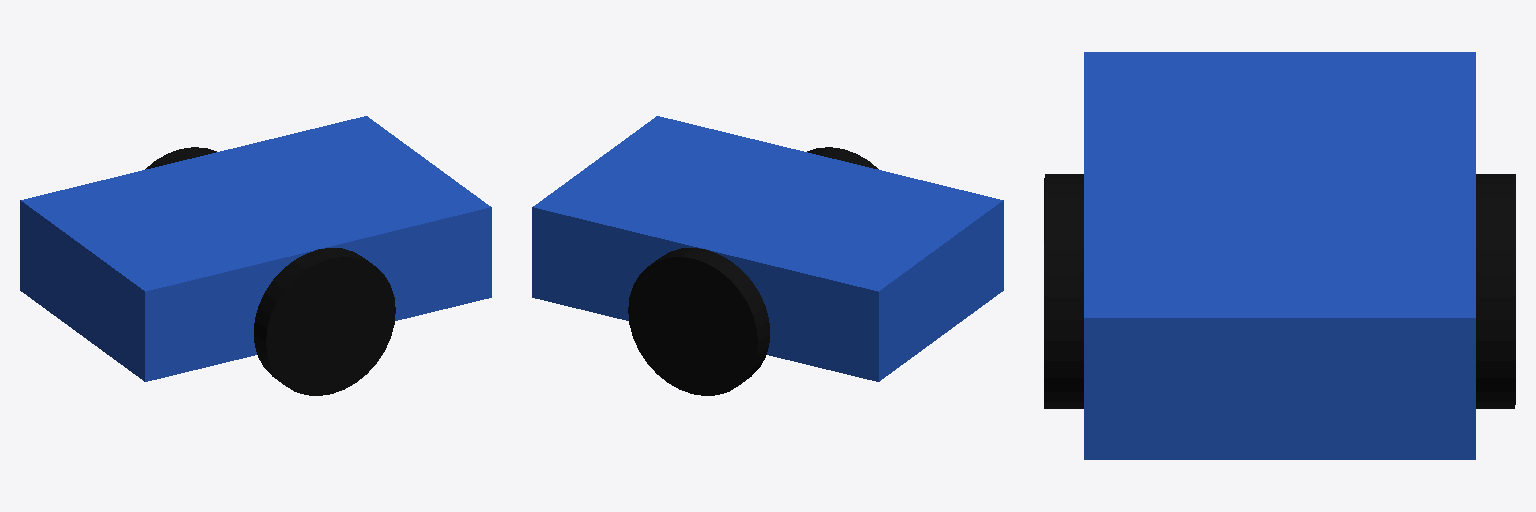
robot.urdf — battlebot_1:
<?xml version="1.0"?>
<robot name="battlebot_1">

  <link name="base_link">
    <visual>
      <origin xyz="0 0 0.05" rpy="0 0 0"/>
      <geometry>
        <box size="0.8 0.5 0.2"/>
      </geometry>
      <material name="blue">
        <color rgba="0.2 0.4 0.8 1"/>
      </material>
    </visual>
    <collision>
      <origin xyz="0 0 0.05" rpy="0 0 0"/>
      <geometry>
        <box size="0.8 0.5 0.2"/>
      </geometry>
    </collision>
    <inertial>
      <origin xyz="0 0 0.05" rpy="0 0 0"/>
      <mass value="10.0"/>
      <inertia ixx="0.1" ixy="0.0" ixz="0.0" iyy="0.1" iyz="0.0" izz="0.1"/>
    </inertial>
  </link>

  <link name="left_wheel_link">
    <visual>
      <origin rpy="1.5707 0 0"/>
      <geometry>
        <cylinder radius="0.15" length="0.05"/>
      </geometry>
      <material name="black">
        <color rgba="0.1 0.1 0.1 1"/>
      </material>
    </visual>
    <collision>
      <origin rpy="1.5707 0 0"/>
      <geometry>
        <cylinder radius="0.15" length="0.05"/>
      </geometry>
    </collision>
    <inertial>
      <mass value="1.0"/>
      <inertia ixx="0.01" ixy="0.0" ixz="0.0" iyy="0.01" iyz="0.0" izz="0.01"/>
    </inertial>
  </link>

  <link name="right_wheel_link">
    <visual>
      <origin rpy="1.5707 0 0"/>
      <geometry>
        <cylinder radius="0.15" length="0.05"/>
      </geometry>
      <material name="black"/>
    </visual>
    <collision>
      <origin rpy="1.5707 0 0"/>
      <geometry>
        <cylinder radius="0.15" length="0.05"/>
      </geometry>
    </collision>
    <inertial>
      <mass value="1.0"/>
      <inertia ixx="0.01" ixy="0.0" ixz="0.0" iyy="0.01" iyz="0.0" izz="0.01"/>
    </inertial>
  </link>

  <joint name="left_wheel_joint" type="continuous">
    <parent link="base_link"/>
    <child link="left_wheel_link"/>
    <origin xyz="0.0 0.275 0" rpy="0 0 0"/>
    <axis xyz="0 1 0"/>
  </joint>

  <joint name="right_wheel_joint" type="continuous">
    <parent link="base_link"/>
    <child link="right_wheel_link"/>
    <origin xyz="0.0 -0.275 0" rpy="0 0 0"/>
    <axis xyz="0 1 0"/>
  </joint>

  <gazebo>
    <plugin name="diff_drive" filename="libgazebo_ros_diff_drive.so">
      <ros>
        <namespace>/battlebot_1</namespace>
      </ros>
      <left_joint>left_wheel_joint</left_joint>
      <right_joint>right_wheel_joint</right_joint>
      <wheel_separation>0.55</wheel_separation>
      <wheel_diameter>0.3</wheel_diameter>
      <max_wheel_torque>200</max_wheel_torque>
      <command_topic>cmd_vel</command_topic>
      <odometry_topic>odom</odometry_topic>
      <odometry_frame>odom</odometry_frame>
      <robot_base_frame>base_link</robot_base_frame>
    </plugin>
  </gazebo>

  <gazebo reference="base_link">
    <kp>1000000.0</kp>
    <kd>100.0</kd>
    <minDepth>0.001</minDepth>
    <maxVel>1.0</maxVel>
    <material>Gazebo/Blue</material> <sensor name="contact_sensor" type="contact">
      <always_on>true</always_on>
      <update_rate>3</update_rate> <contact>
        <collision>base_link_collision</collision>
      </contact>
      <plugin name="gazebo_ros_bumper" filename="libgazebo_ros_bumper.so">
        <ros>
          <namespace>/battlebot_1</namespace>
          <remapping>bumper_states:=contact</remapping>
        </ros>
        <frame_name>base_link</frame_name>
      </plugin>
    </sensor>
  </gazebo>
</robot>

--- Render facts (derived) ---
3 views of the same robot in one strip: view 1: azimuth 30°, elevation 25°; view 2: azimuth 150°, elevation 25°; view 3: azimuth 270°, elevation 25° (orthographic).
Robot: battlebot_1 — 3 links, 2 joints (2 continuous); root link base_link; default pose: every joint at zero.
Visible links, largest first — view 1: base_link, right_wheel_link, left_wheel_link; view 2: base_link, left_wheel_link, right_wheel_link; view 3: base_link, left_wheel_link, right_wheel_link.
Link boxes in pixels (x1,y1,x2,y2): base_link: [20, 116, 491, 381]; right_wheel_link: [254, 248, 395, 395]; left_wheel_link: [145, 147, 216, 169]; base_link: [532, 116, 1003, 381]; left_wheel_link: [628, 248, 769, 395]; right_wheel_link: [807, 147, 878, 169]; base_link: [1084, 52, 1475, 459]; left_wheel_link: [1476, 174, 1515, 408]; right_wheel_link: [1044, 174, 1083, 408].
Size in the robot's own frame: 0.8 by 0.6 by 0.3 metres.
Geometry: primitives only (box / cylinder / sphere), no mesh files.